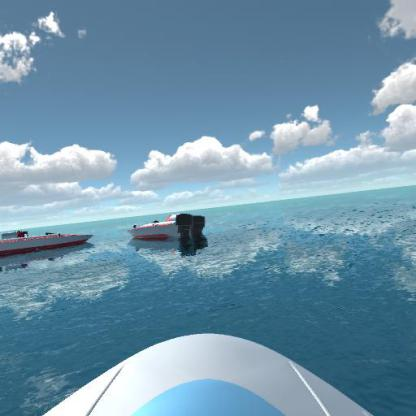usv3: (0, 218, 94, 260), (126, 210, 211, 247)
